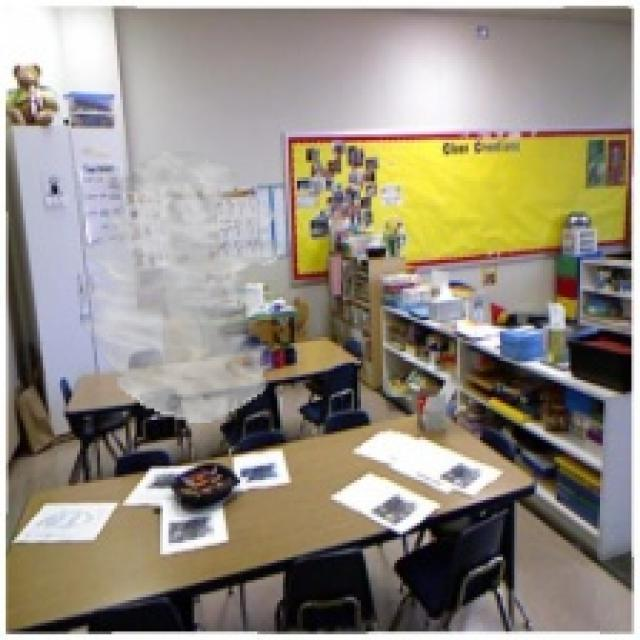Smoke: (80, 151, 283, 423)
